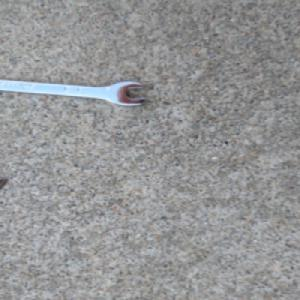Wrench: (0, 76, 149, 107)
